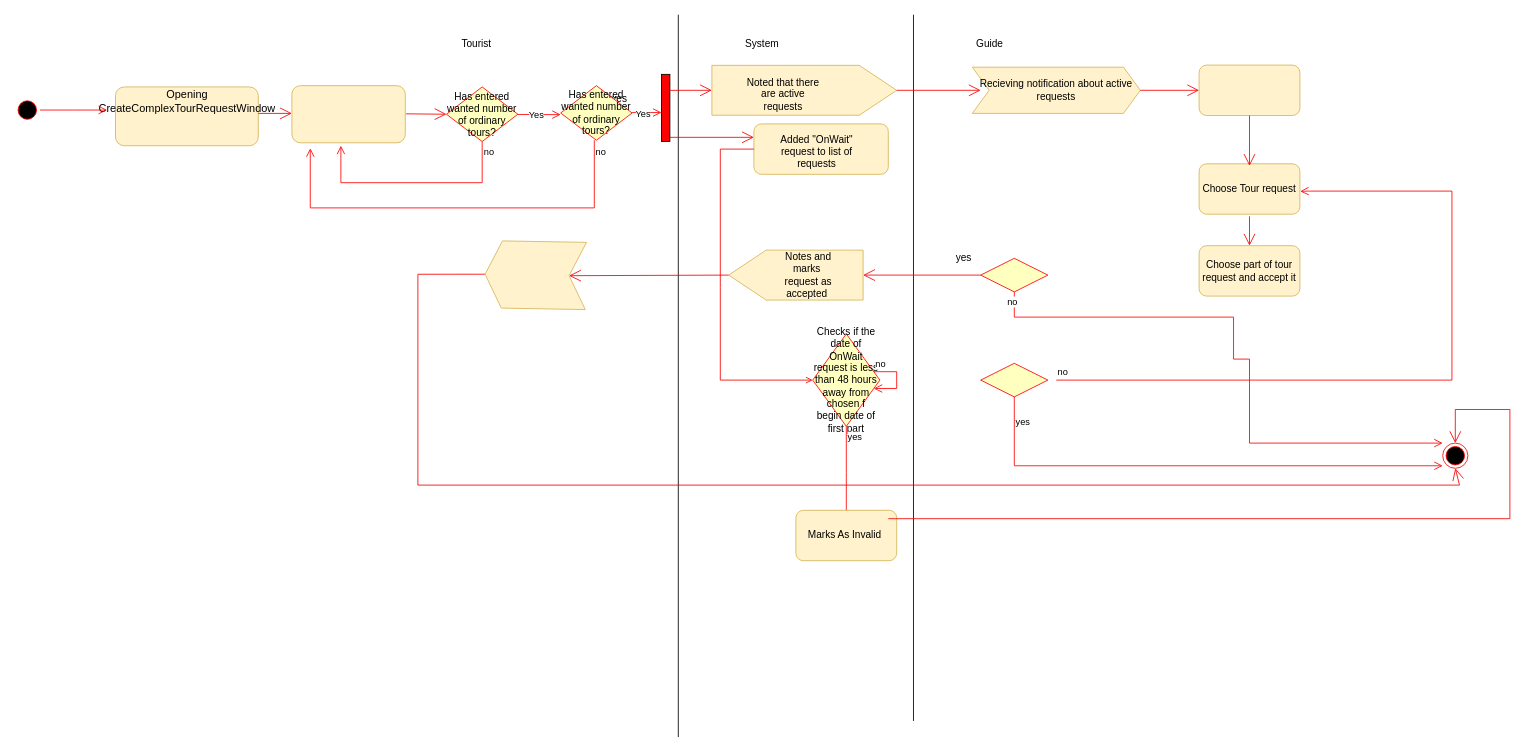
Image size: 1536x753. Some labels were removed from this diagram. The shapes that lost their labels are listed below. From the top down, each one's centre as x and y in pixels, then its label:
point (1249, 90): Opening Tour Request Window and choosing Complex Requests
point (348, 114): Adding ordinary tour request information
point (535, 275): Recieves notification that part of tour has been accepted
point (1014, 274): Has previously accepted request
point (1014, 379): Has accepted all wanted complex tours
